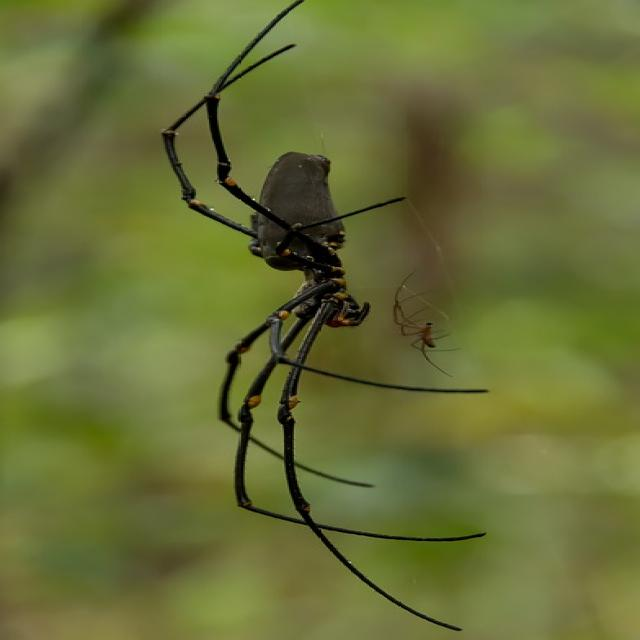spyder: (161, 0, 486, 629)
